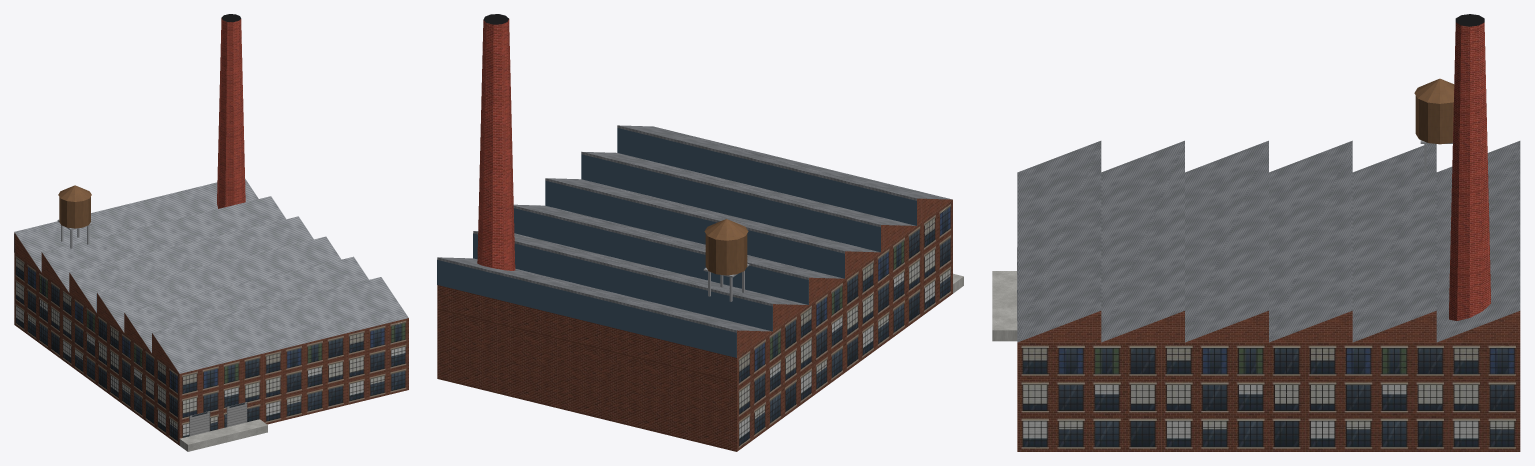
File: 090_factory_sawtooth.glb
The picture shows the model from 3 angles, left to right: view 1: azimuth 30°, elevation 25°; view 2: azimuth 150°, elevation 25°; view 3: azimuth 270°, elevation 25°; orthographic projection. The views are drawn at different scales.
Visible parts, largest first — view 1: 090_factory_sawtooth; view 2: 090_factory_sawtooth; view 3: 090_factory_sawtooth.
Boxes of the visible parts, box(x1,y1,x2,y2) form: 090_factory_sawtooth: box(14, 14, 408, 451); 090_factory_sawtooth: box(437, 14, 963, 451); 090_factory_sawtooth: box(992, 14, 1520, 451).
Bounding box in the file's own units: 40 × 45 × 52.53.
10 materials, 7 textured.
